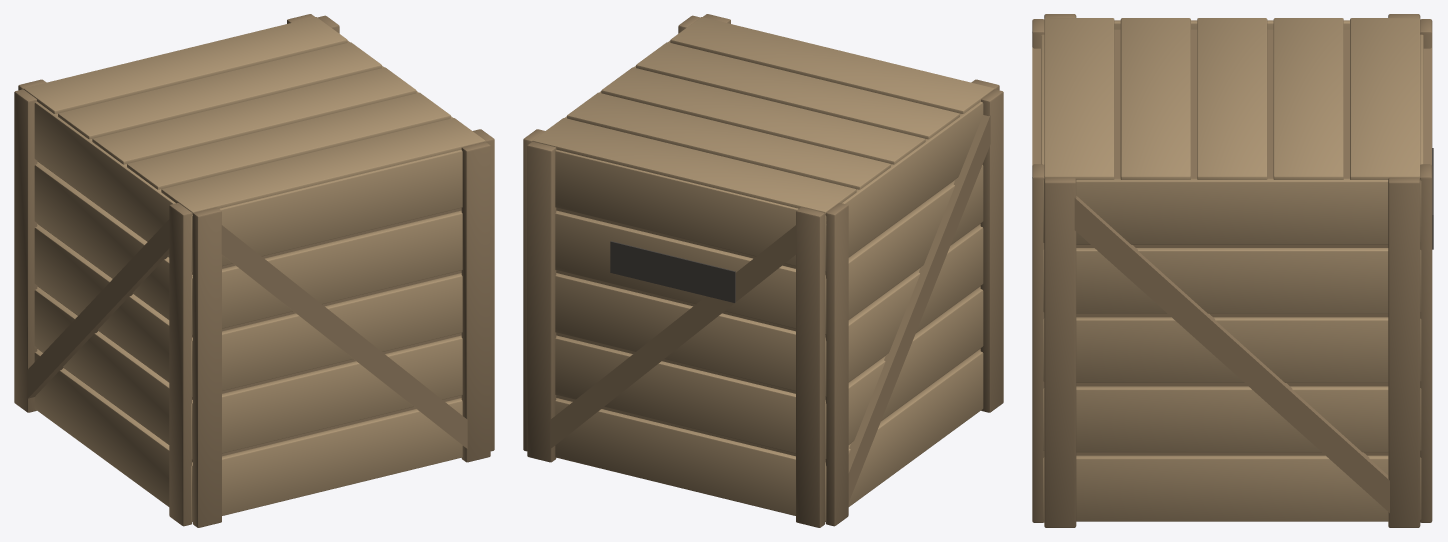
The model's file is crate.glb.
3 renders of one model, left to right at view 1: azimuth 30°, elevation 25°; view 2: azimuth 150°, elevation 25°; view 3: azimuth 270°, elevation 25°, orthographic. The views are drawn at different scales.
Parts seen in each view (by area): view 1: Part; view 2: Part; view 3: Part.
Boxes of the visible parts, box(x1,y1,x2,y2) form: Part: box(14, 14, 494, 527); Part: box(523, 14, 1003, 527); Part: box(1032, 14, 1433, 527).
Bounding box in the file's own units: 1.26 × 1.2 × 1.26.
